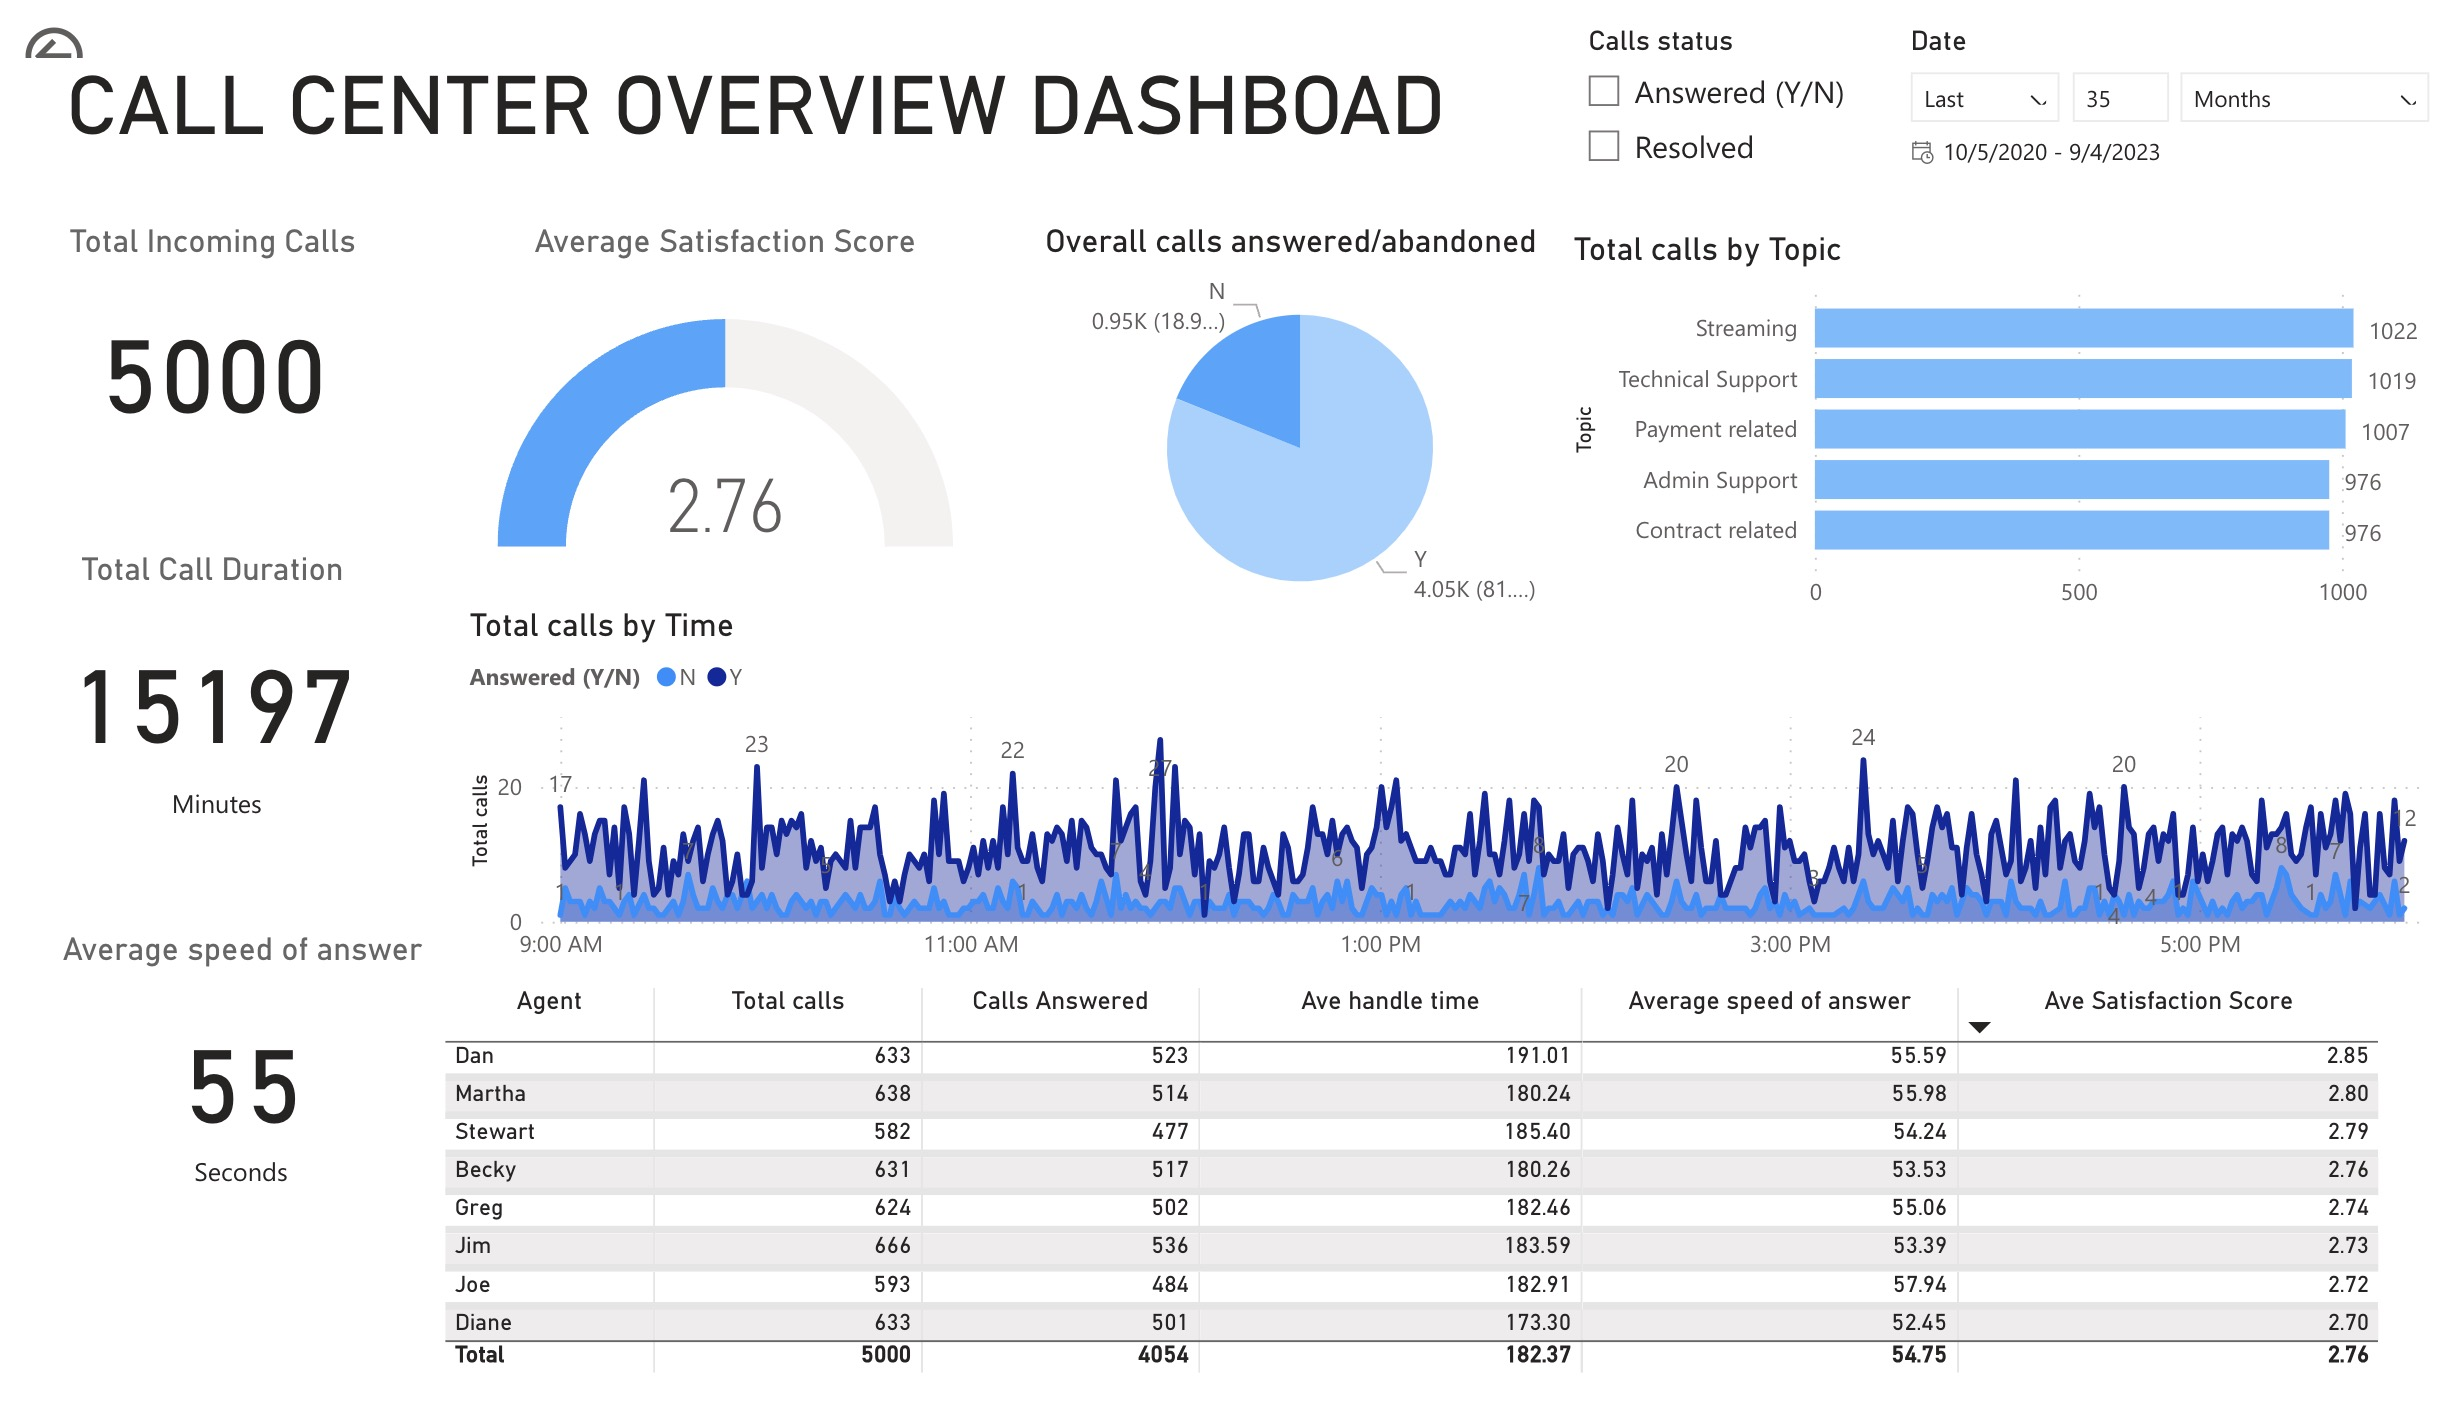

What the dashboard file says about the page in this screenshot:
{"tool":"powerbi","page":{"name":"Page 1","canvas":[1280,720],"ordinal":0},"visuals":[{"type":"pieChart","title":"Overall calls answered/abandoned","fields":{"Category":["Sheet1.Answered (Y/N)"],"Y":["CountNonNull(Sheet1.Call Id)"]},"box":[535.3,108.6,277.1,217.3],"z":0},{"type":"actionButton","box":[0,0,100,40],"z":1000},{"type":"textbox","box":[0,20.5,776.2,61.4],"z":2000},{"type":"card","title":"Total Incoming Calls","fields":{"Values":["CountNonNull(Sheet1.Call Id)"]},"box":[3.1,108.6,200,129.1],"z":3000},{"type":"card","title":"Total  Call Duration","fields":{"Values":["Sheet1.Average Call Duration in seconds"]},"box":[2.8,281.5,199.7,130.4],"z":4000},{"type":"card","title":"Average speed of answer","fields":{"Values":["Sheet1.Average speed of answer"]},"box":[18.7,480.6,199.7,130.4],"z":5000},{"type":"textbox","box":[59.5,397.2,91,31.3],"z":6000},{"type":"textbox","box":[78.7,590.4,78.7,39.4],"z":7000},{"type":"gauge","title":"Average Satisfaction Score","fields":{"Y":["Sheet1.Ave Satisfaction Score"]},"box":[247.2,108.6,248.8,201.5],"z":8000},{"type":"clusteredBarChart","fields":{"Category":["Sheet1.Topic"],"Y":["Sheet1.Total calls"]},"box":[812.4,113.4,467.6,212.5],"z":9000},{"type":"areaChart","title":"Total calls by Time","fields":{"Y":["Sheet1.Total calls"],"Series":["Sheet1.Answered (Y/N)"],"Category":["Sheet1.Time"]},"box":[233,310.2,1047,193.7],"z":10000},{"type":"slicer","fields":{"Values":["Calls status.Calls status"]},"box":[812.4,0,176.3,110.2],"z":11000},{"type":"slicer","fields":{"Values":["Sheet1.Date"]},"box":[980.9,0,299.1,113.4],"z":12000},{"type":"tableEx","fields":{"Values":["Sheet1.Agent","Sheet1.Total calls","Sheet1.Calls Answered","Sheet1.Ave handle time","Sheet1.Average speed of answer","Sheet1.Ave Satisfaction Score"]},"box":[218.8,503.8,1061.2,215.7],"z":13000}]}

Visuals, with their boxes in screenshot pixels (x1, y1, x2, y2), scaled from the page's 1280x720 canvas onto the 2450x1420 screenshot:
"Overall calls answered/abandoned" pieChart: detection(1025, 214, 1555, 643)
actionButton: detection(0, 0, 191, 79)
textbox: detection(0, 40, 1486, 162)
"Total Incoming Calls" card: detection(6, 214, 389, 469)
"Total  Call Duration" card: detection(5, 555, 388, 812)
"Average speed of answer" card: detection(36, 948, 418, 1205)
textbox: detection(114, 783, 288, 845)
textbox: detection(151, 1164, 301, 1242)
"Average Satisfaction Score" gauge: detection(473, 214, 949, 612)
clusteredBarChart - Sheet1.Topic x Sheet1.Total calls: detection(1555, 224, 2449, 643)
"Total calls by Time" areaChart: detection(446, 612, 2449, 994)
slicer - Calls status.Calls status: detection(1555, 0, 1892, 217)
slicer - Sheet1.Date: detection(1878, 0, 2449, 224)
tableEx - Sheet1.Agent x Sheet1.Total calls: detection(419, 994, 2449, 1419)
